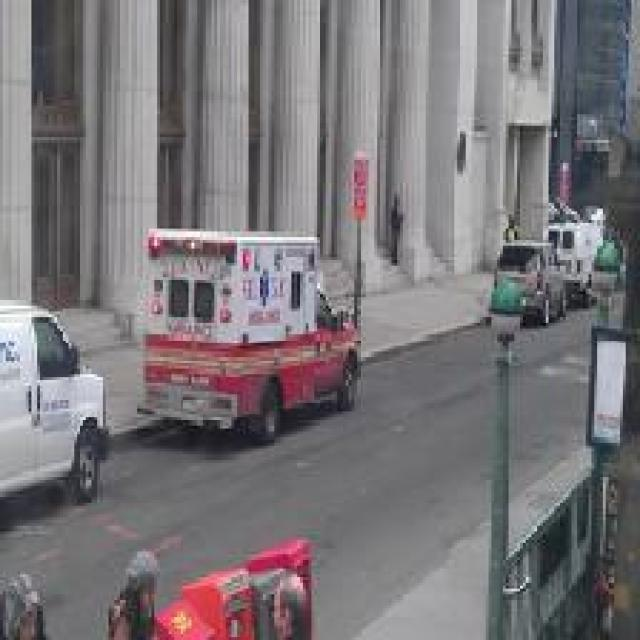emergency: (145, 226, 363, 442)
